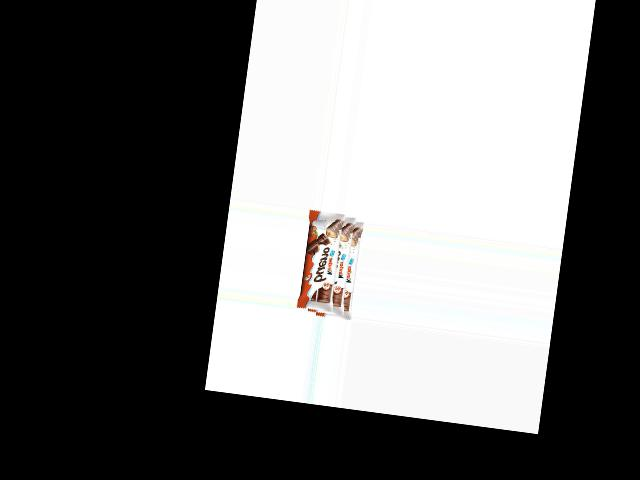chocolate: (295, 211, 364, 319)
